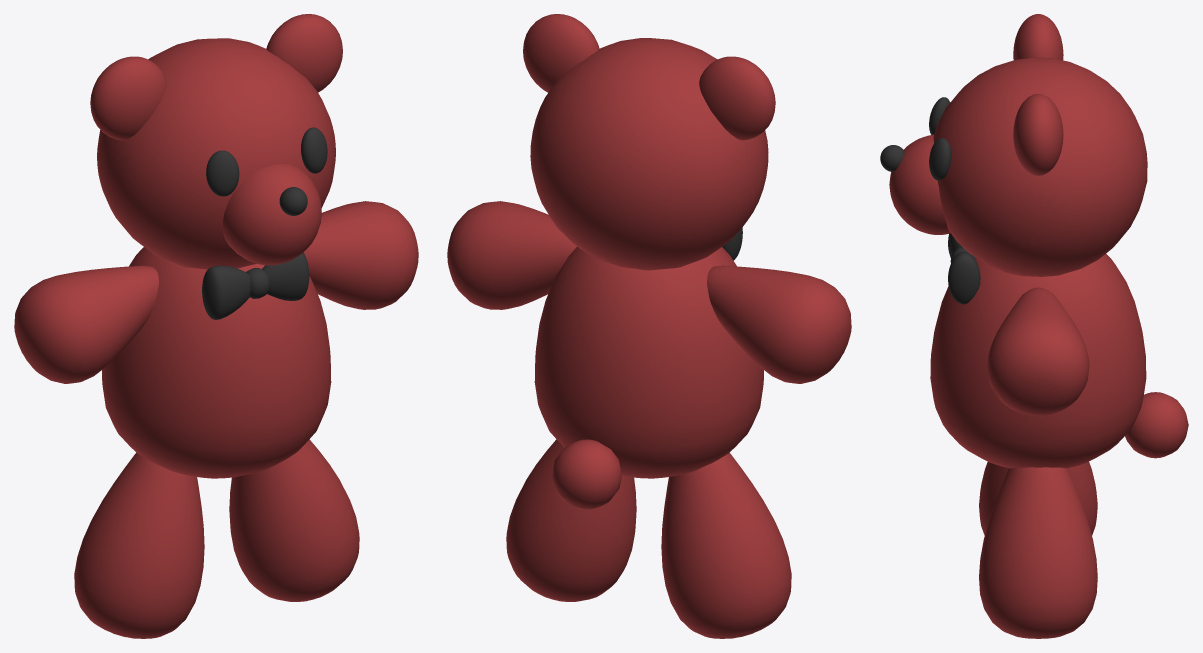
File: teddy_bear_join.glb
The picture shows the model from 3 angles, left to right: view 1: azimuth 30°, elevation 25°; view 2: azimuth 150°, elevation 25°; view 3: azimuth 270°, elevation 25°; orthographic projection. The views are drawn at different scales.
Visible parts, largest first — view 1: head; view 2: head; view 3: head.
Part boxes in pixels (x1,y1,x2,y2): head: (14,14,418,638); head: (447,14,851,638); head: (880,14,1188,638).
Bounding box in the file's own units: 2.57 × 3.66 × 1.89.
